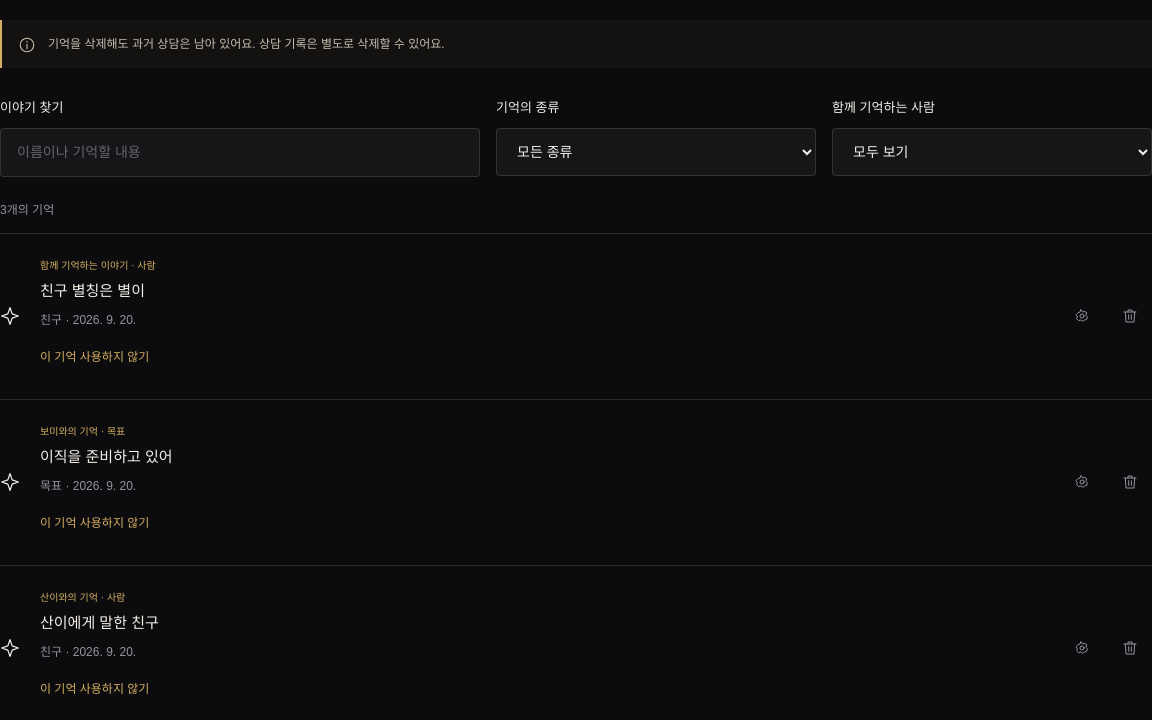
Test: memory management › keeps only failed deletion items available for retry
Check: the heading "친구 별칭은 별이" is shown, box 40,282 -> 145,299
Select "사람" in the dropdown labelled "기억의 종류" at (656, 152), box 496,128 -> 816,176
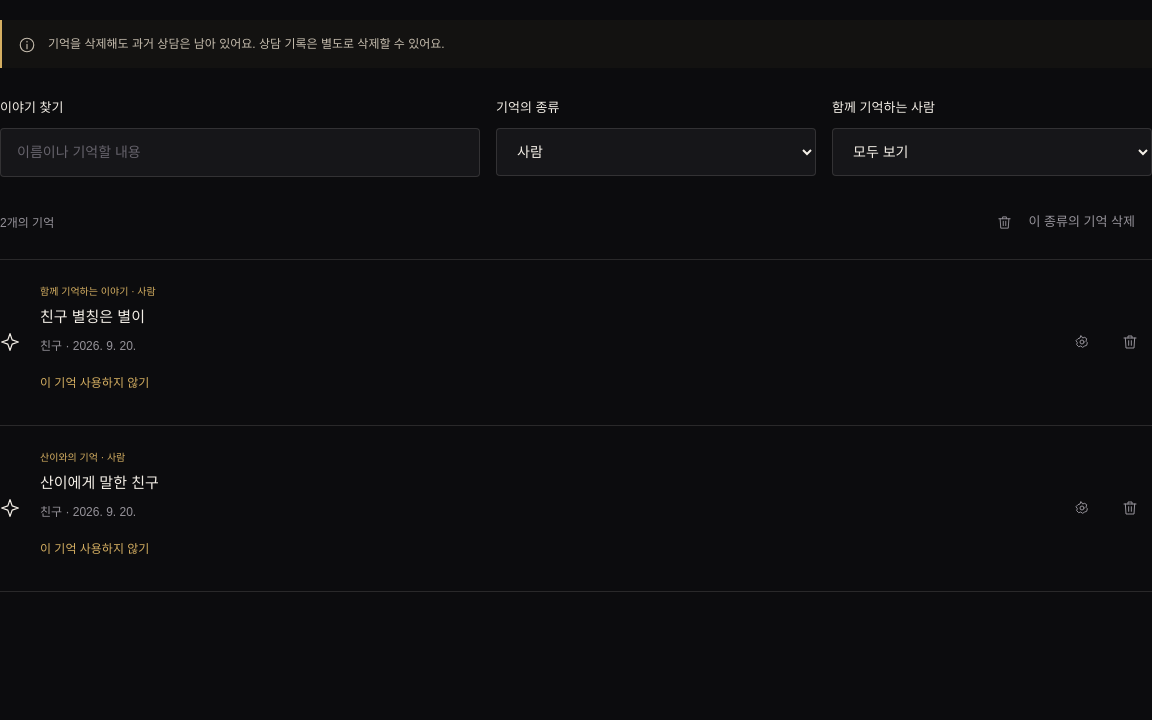
Click the button "이 종류의 기억 삭제" at (1066, 223), box 980,201 -> 1151,245
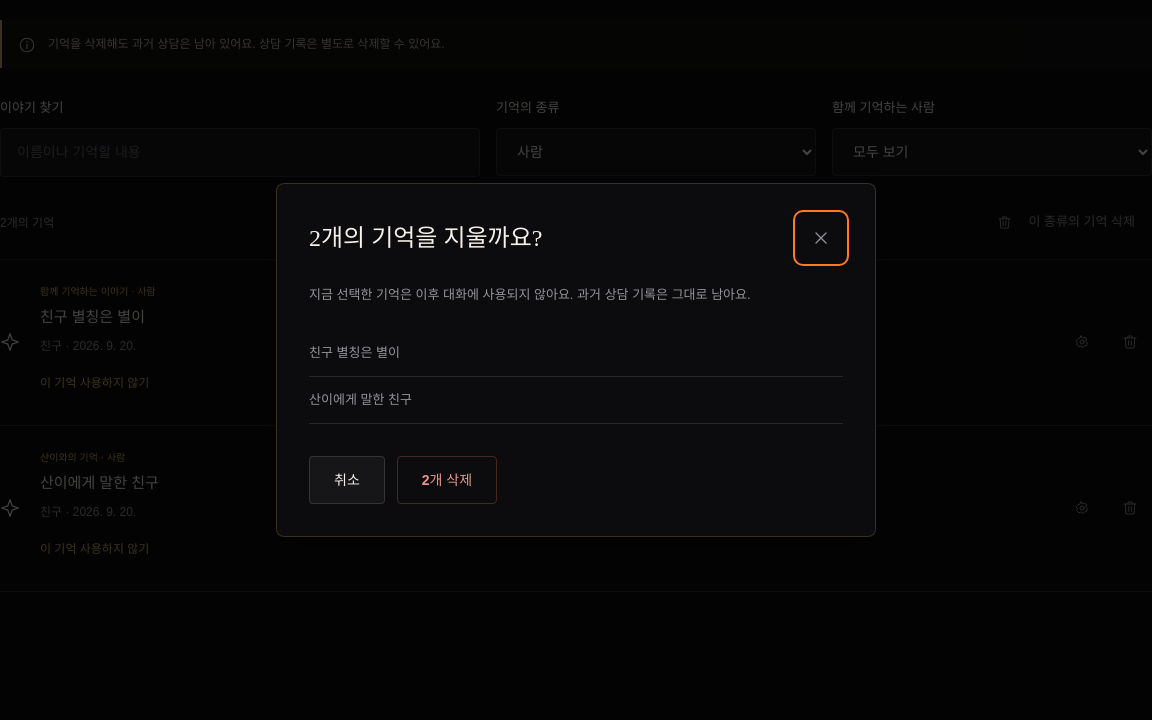
Click the button "2개 삭제" at (447, 480), box 397,456 -> 497,504
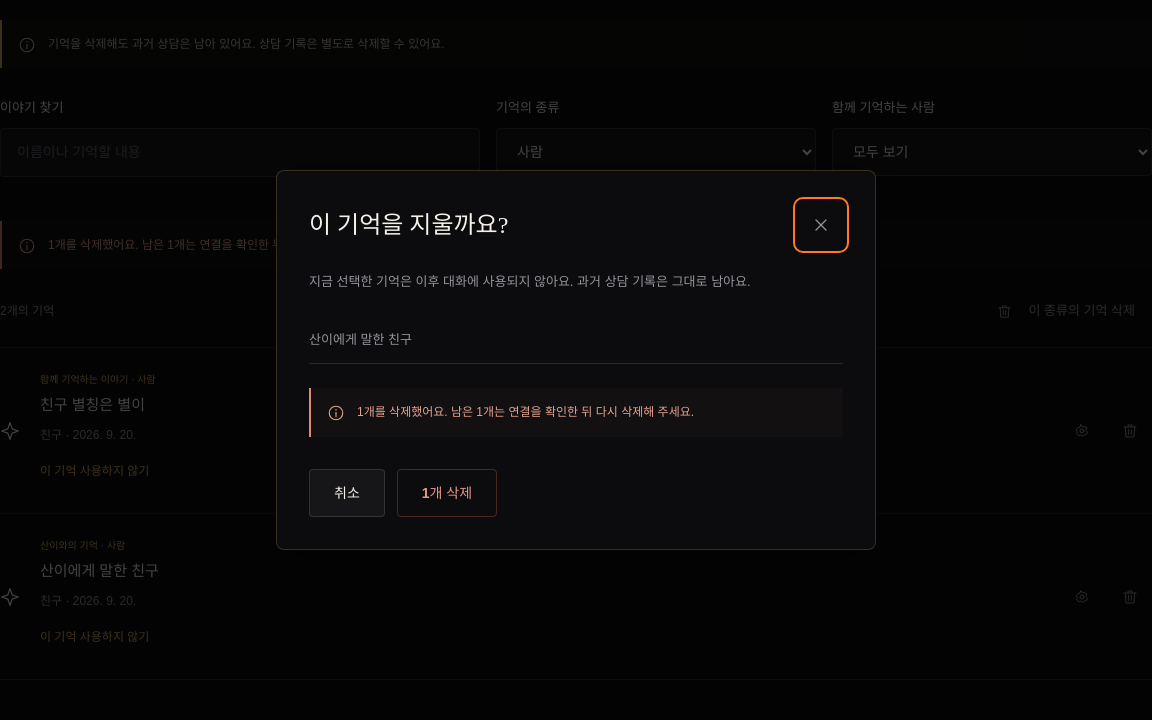
Check: the list item "산이에게 말한 친구" is shown, box 309,317 -> 843,364
Check: the button "1개 삭제" is shown, box 397,469 -> 497,517
